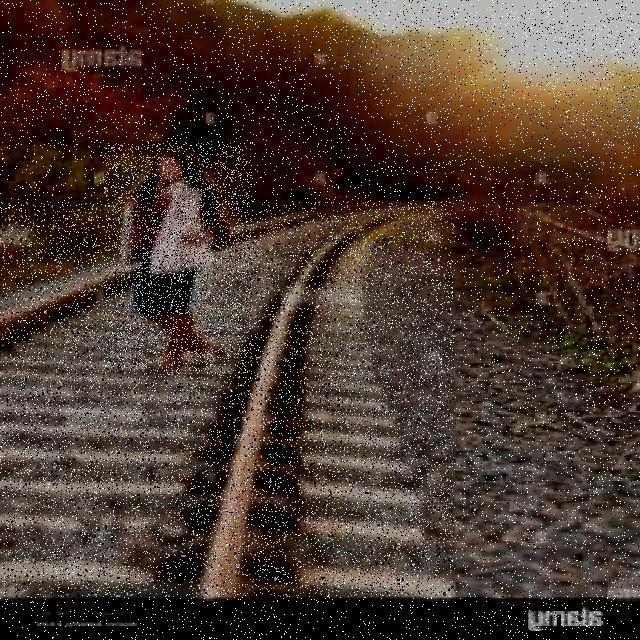danger: (104, 143, 252, 374)
rail: (3, 202, 454, 597)
